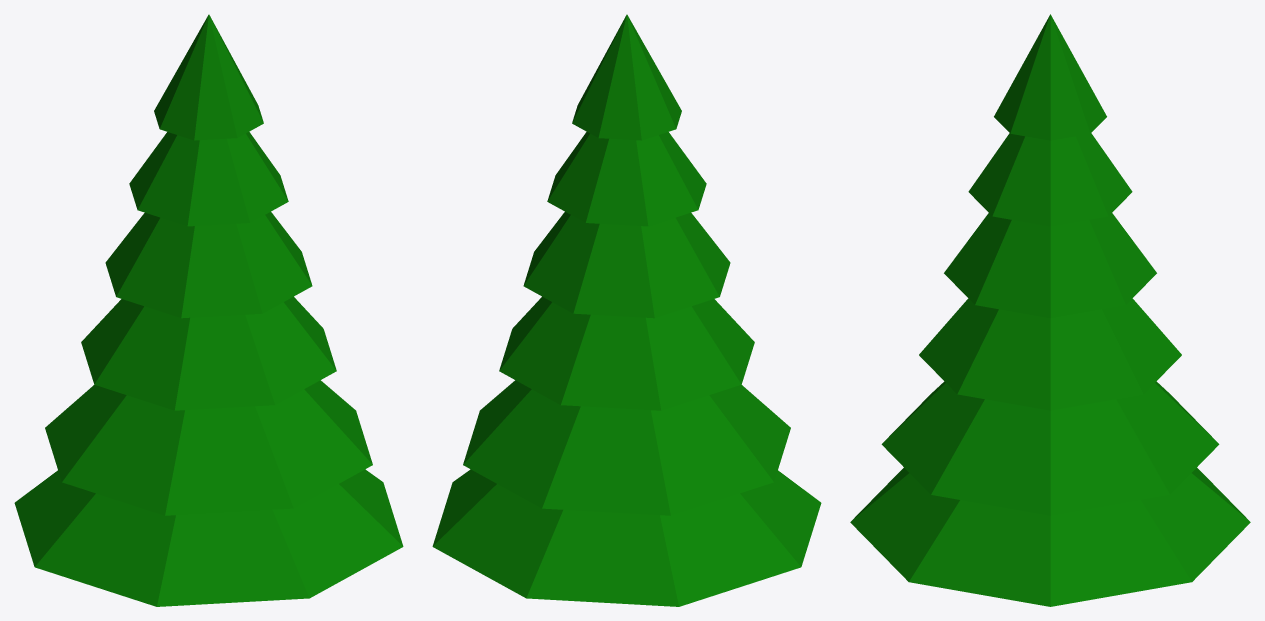
The model's file is pine.fbx.
The picture shows the model from 3 angles, left to right: view 1: azimuth 30°, elevation 25°; view 2: azimuth 150°, elevation 25°; view 3: azimuth 270°, elevation 25°; orthographic projection.
Parts seen in each view (by area): view 1: Cone; view 2: Cone; view 3: Cone.
Part boxes in pixels (left/top/right/bottom): Cone: left=14, top=14, right=403, bottom=606; Cone: left=432, top=14, right=821, bottom=606; Cone: left=850, top=14, right=1250, bottom=606.
Bounding box in the file's own units: 570 × 874 × 570.
